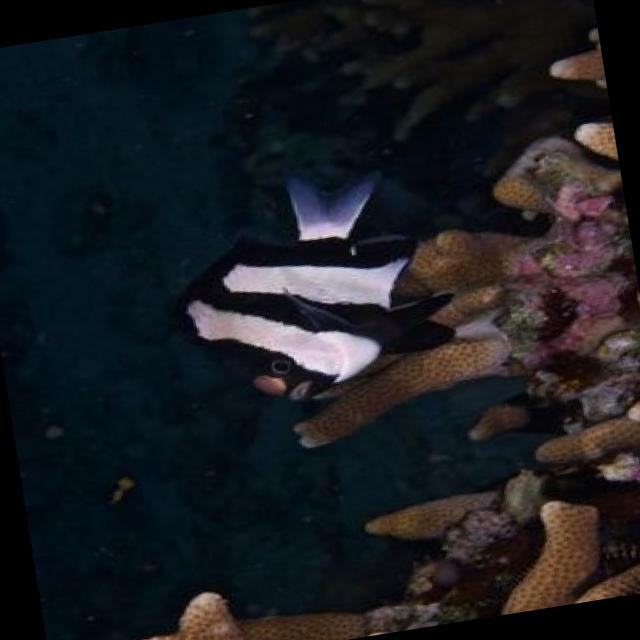ThreeStripedDamselfish: (187, 175, 457, 400)
